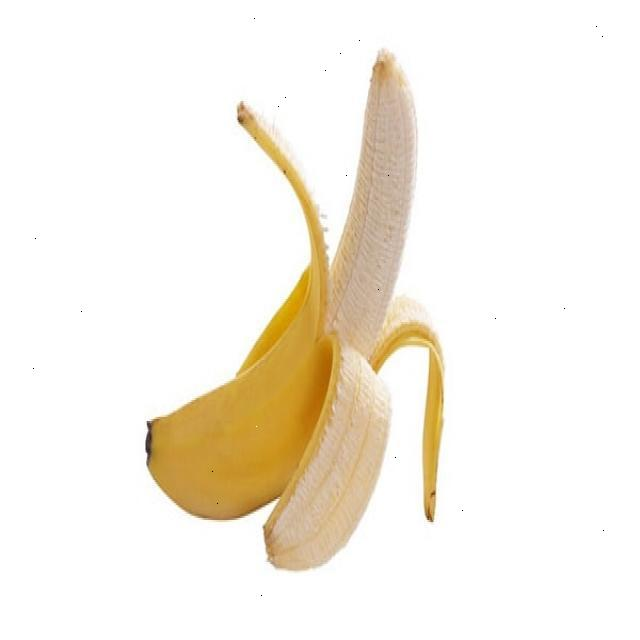banana-peel: (144, 46, 447, 571)
